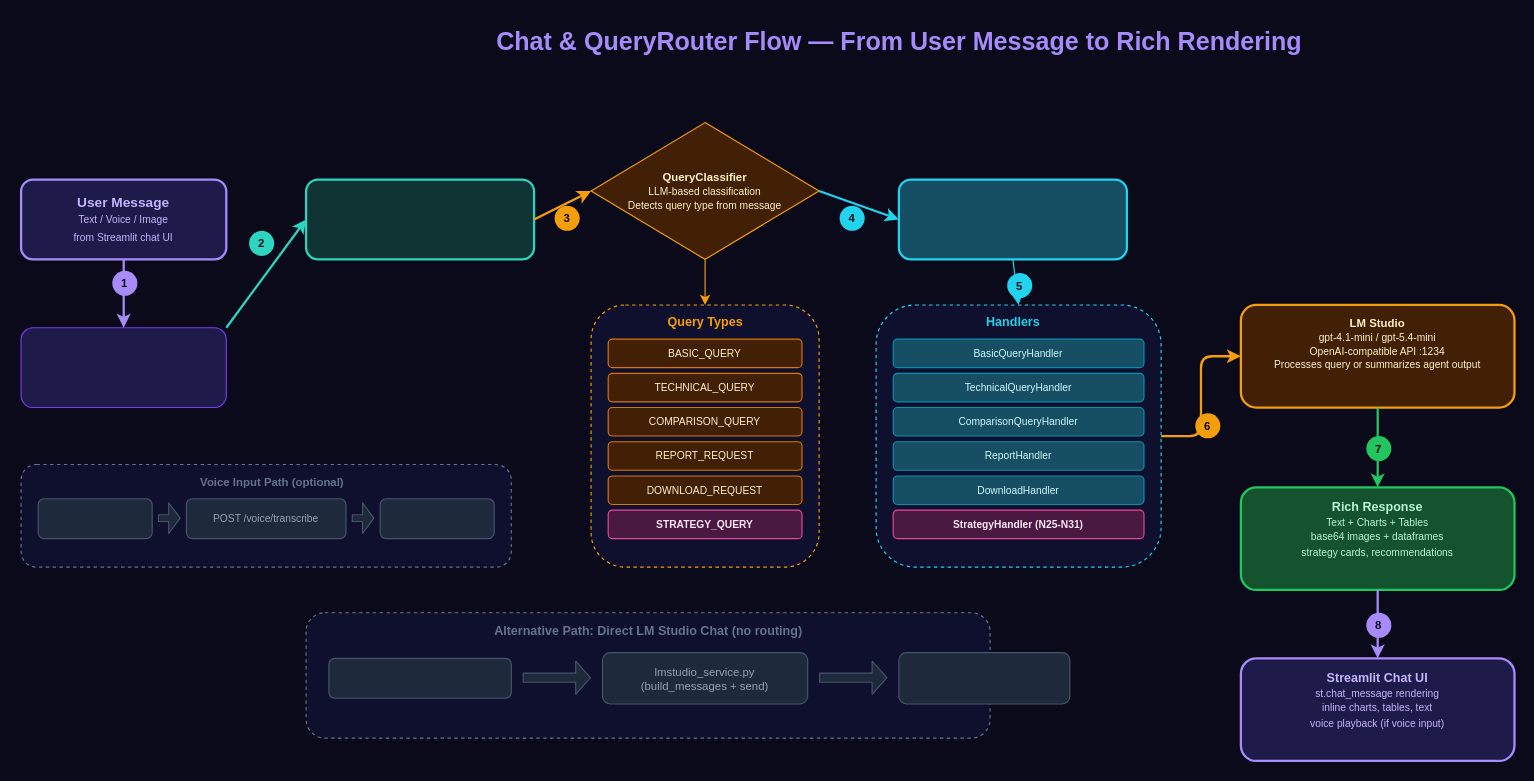
The diagram is 1534 pixels wide and 781 high, and some of its shapes have lost their labels. Each missing label, with the box of its shape:
Audio recording: (37, 498, 152, 539)
chat_service.py Frontend service layer formats request, sends to backend: (20, 327, 226, 408)
LM Studio :1234 (raw completion): (898, 652, 1070, 704)
POST /api/v1/chat/query Main intelligent endpoint (also: /message, /stream): (304, 178, 535, 260)
POST /chat/message: (328, 657, 511, 698)
QueryRouter Routes to specialized handler based on detected QueryType: (897, 178, 1127, 260)
text → /chat/query: (379, 498, 494, 539)
